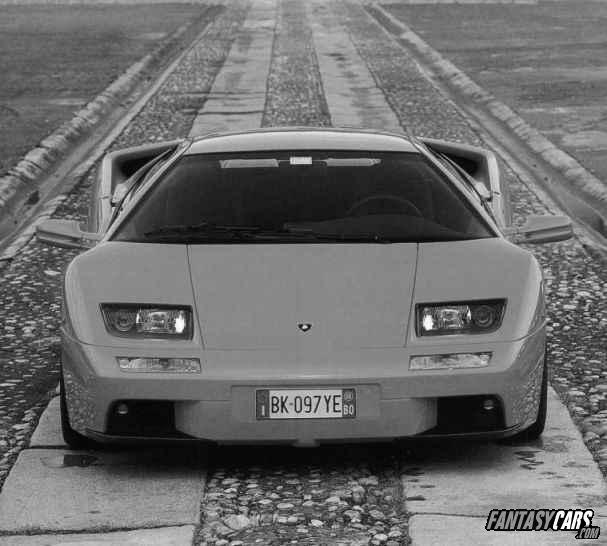car: (36, 125, 576, 479)
